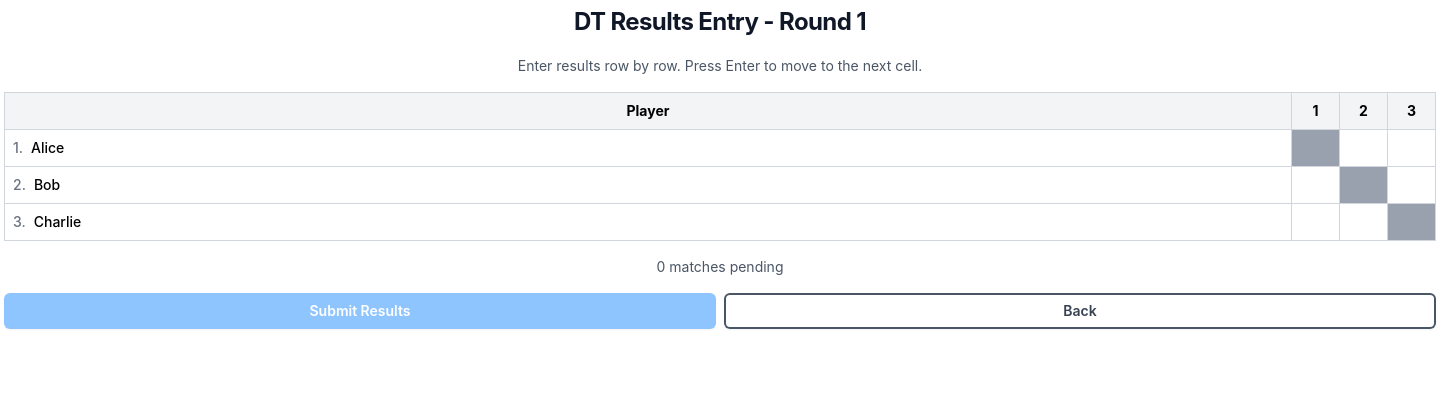
Test case: BulkMatchEntry › Submit Functionality › should handle 409 conflict error
The image size is (1440, 412).
Type "5" into the 1st number field at (1364, 148), box [1340,136,1387,160]
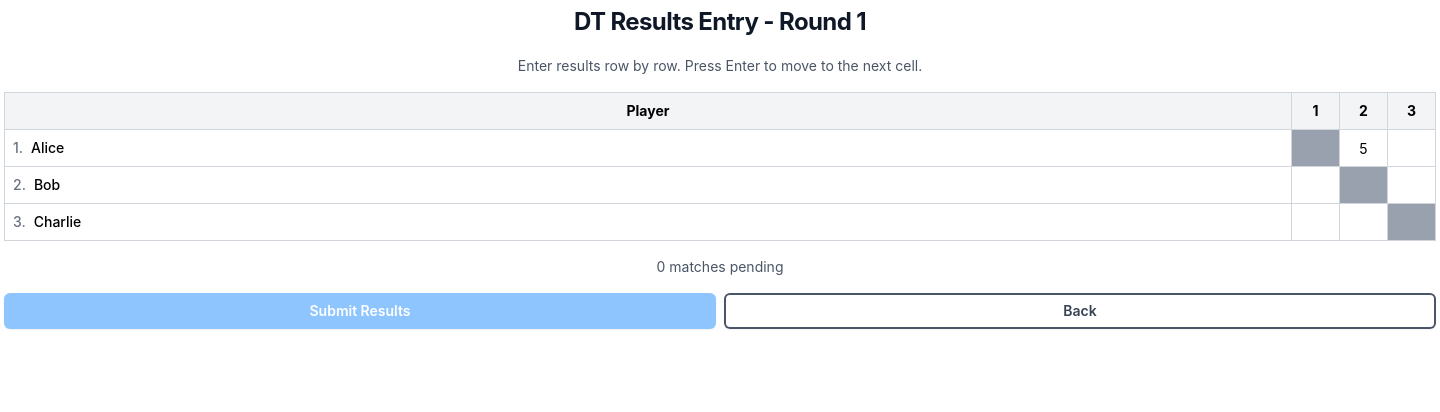
Type "3" into the 3rd number field at (1316, 185), box [1292,172,1339,198]
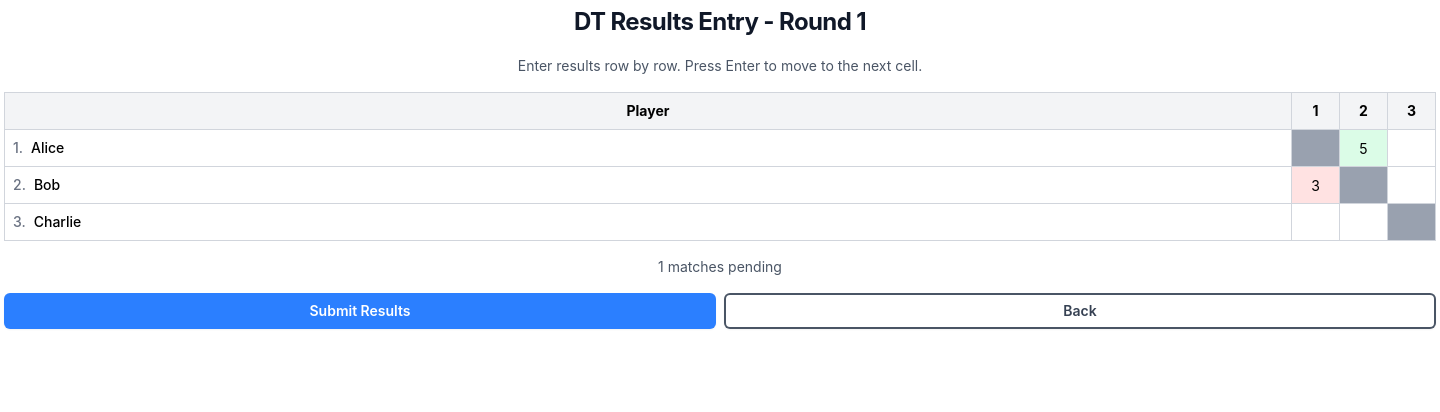
Result: the text "1 matches pending" is shown at [658,258,782,275]
Click the button "Submit Results" at (360, 311), box [4,293,716,329]
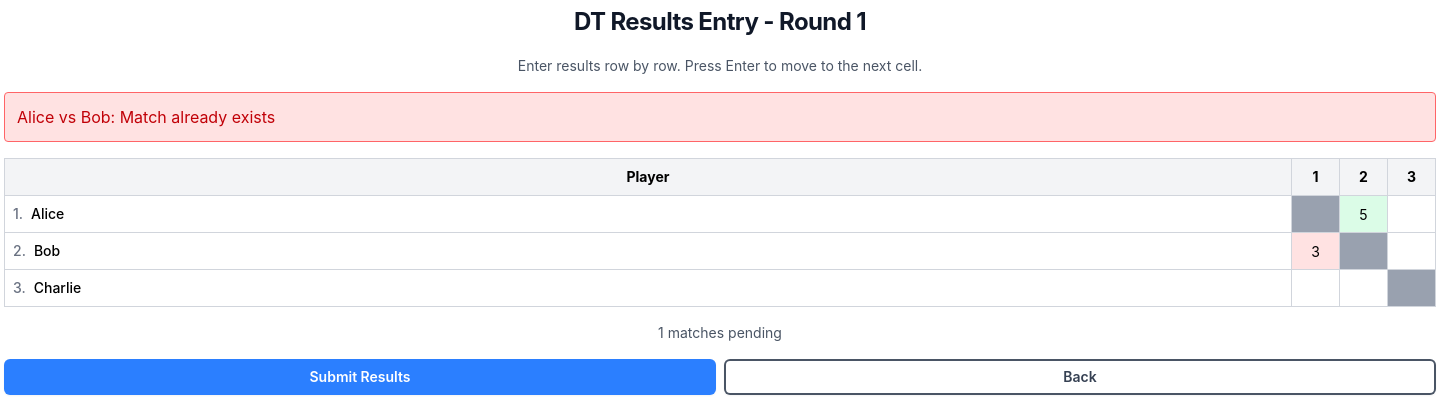
Result: the text "Alice vs Bob: Match already exists" is shown at [4,92,1436,142]
